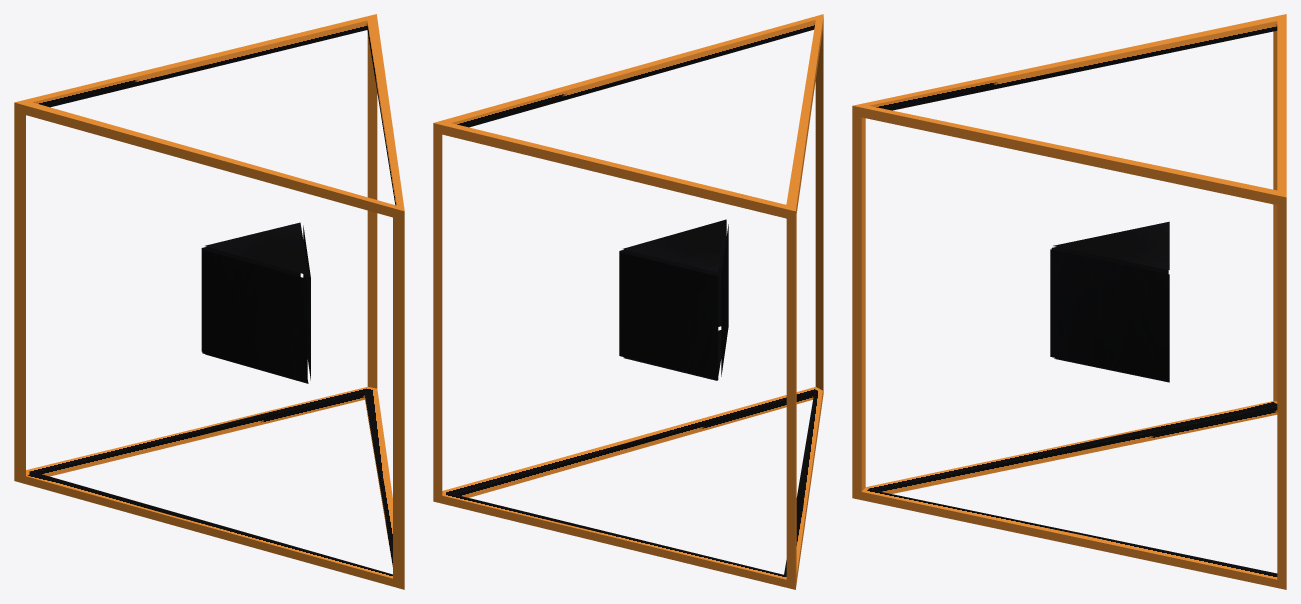
File: triangle(hollow.fbx
3 renders of one model, left to right at view 1: azimuth 30°, elevation 25°; view 2: azimuth 150°, elevation 25°; view 3: azimuth 270°, elevation 25°, orthographic. The views are drawn at different scales.
Parts seen in each view (by area): view 1: pPrism1; view 2: pPrism1; view 3: pPrism1.
Boxes of the visible parts, left/top/right/bottom form: pPrism1: left=14, top=14, right=404, bottom=589; pPrism1: left=433, top=14, right=823, bottom=589; pPrism1: left=852, top=14, right=1286, bottom=589.
Bounding box in the file's own units: 301 × 300 × 301.
